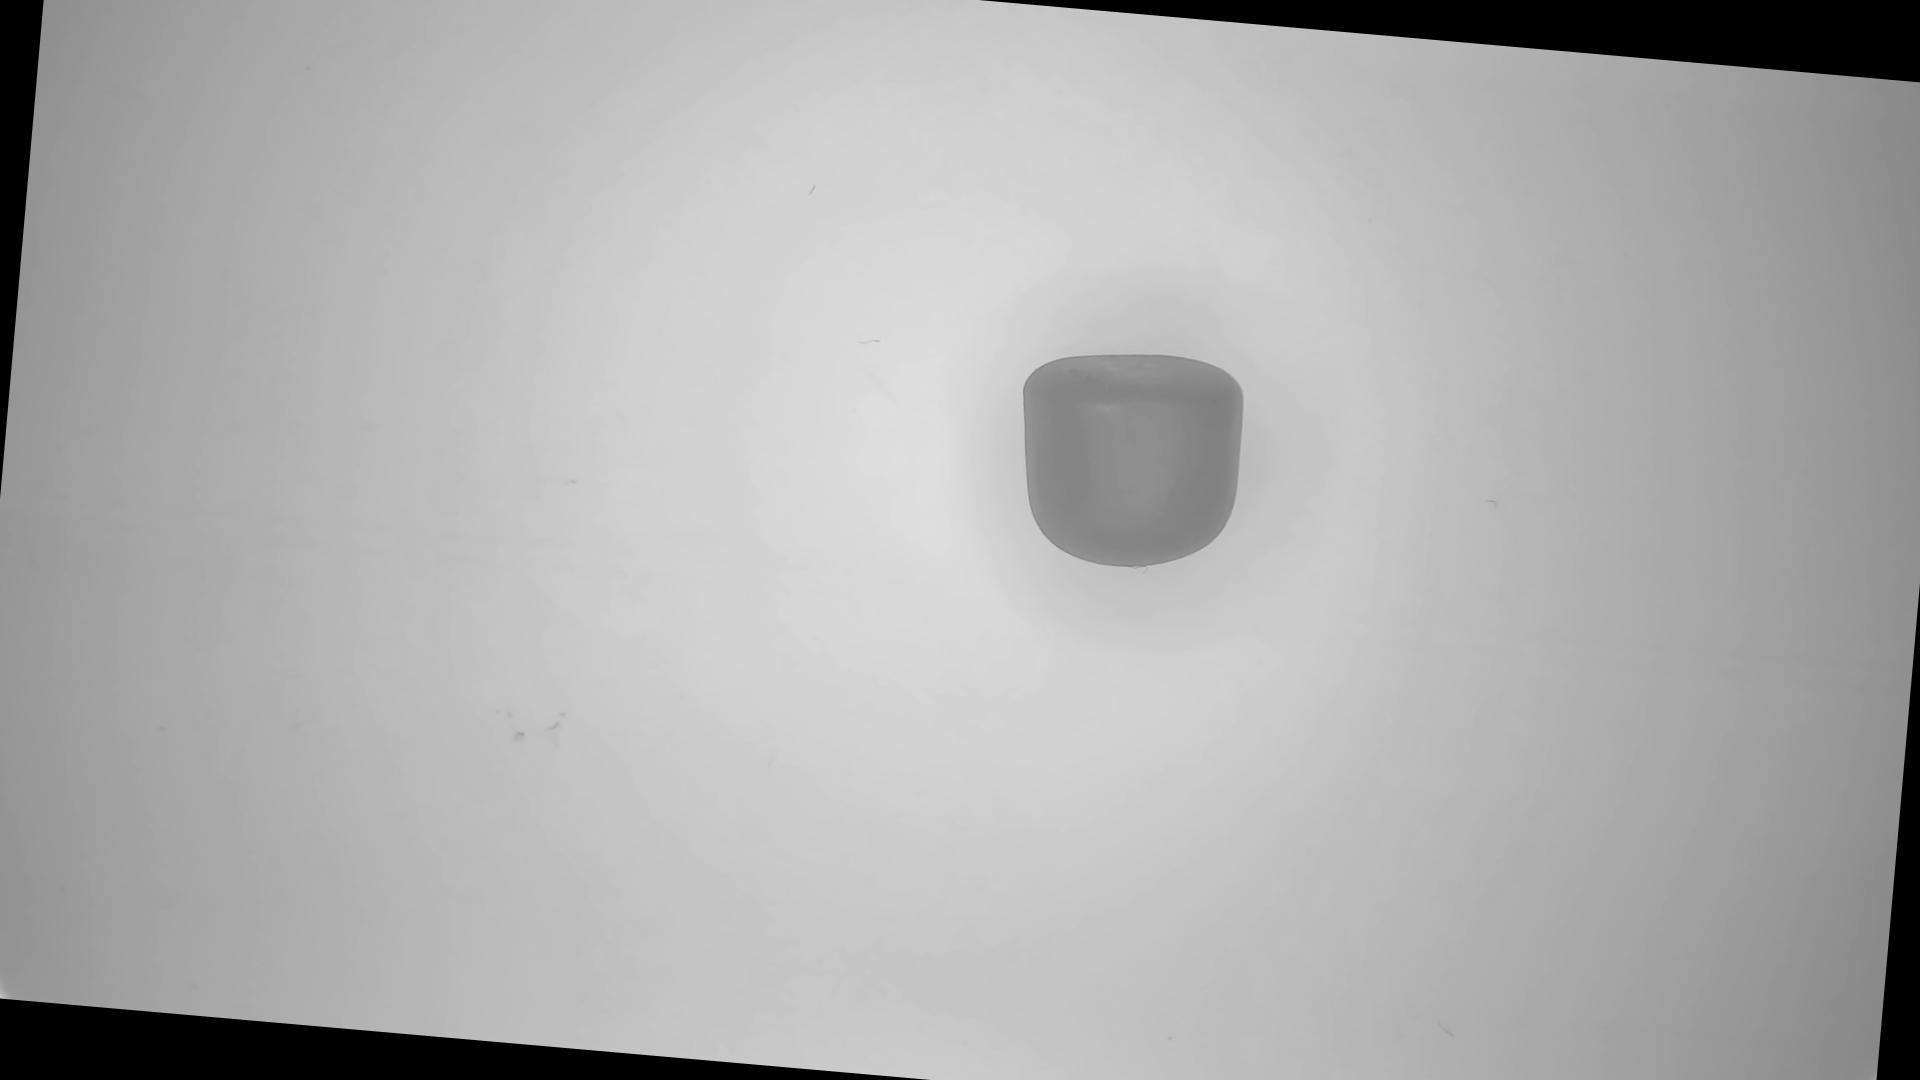normal: (1010, 340, 1253, 578)
